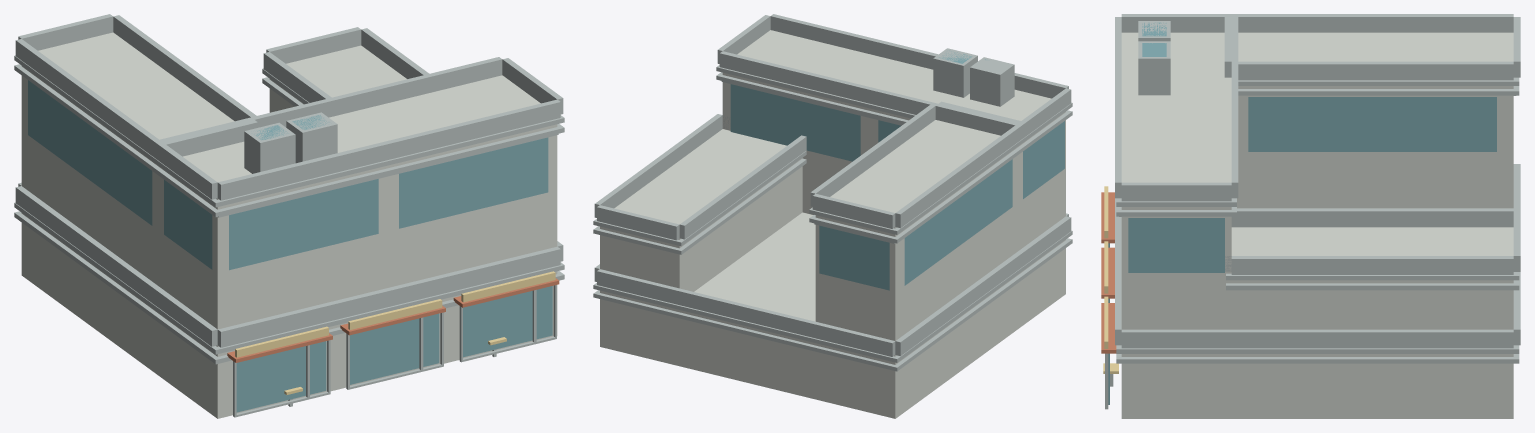
File: commercial_2x2_court.glb
3 renders of one model, left to right at view 1: azimuth 30°, elevation 25°; view 2: azimuth 150°, elevation 25°; view 3: azimuth 270°, elevation 25°, orthographic. The views are drawn at different scales.
Visible parts, largest first — view 1: commercial_2x2_court_0; view 2: commercial_2x2_court_0; view 3: commercial_2x2_court_0.
Part boxes in pixels (bbox=[...]): commercial_2x2_court_0: bbox=[14, 14, 564, 418]; commercial_2x2_court_0: bbox=[593, 14, 1072, 418]; commercial_2x2_court_0: bbox=[1101, 14, 1520, 418].
Size of the model in its own units: 15 by 10.5 by 15.5.
